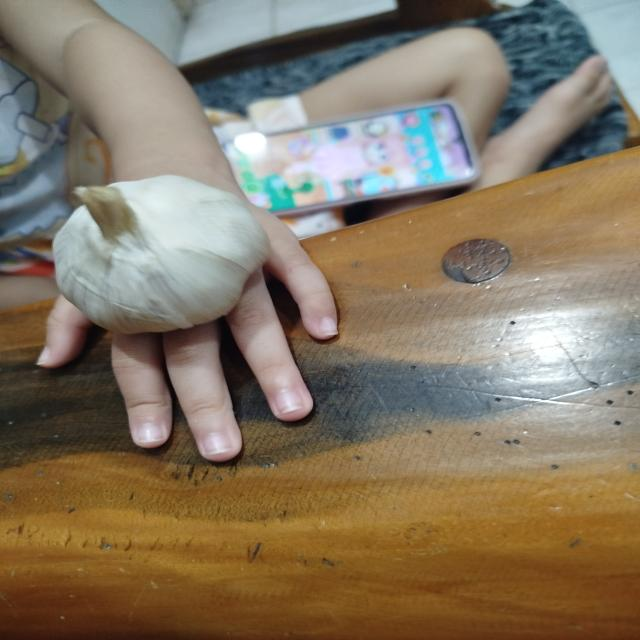garlic: (26, 154, 318, 343)
